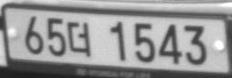1: (109, 20, 131, 61)
3: (183, 24, 207, 65)
4: (157, 23, 182, 64)
5: (133, 22, 156, 63), (46, 17, 66, 56)
6: (24, 16, 44, 55)
더: (66, 21, 91, 57)
